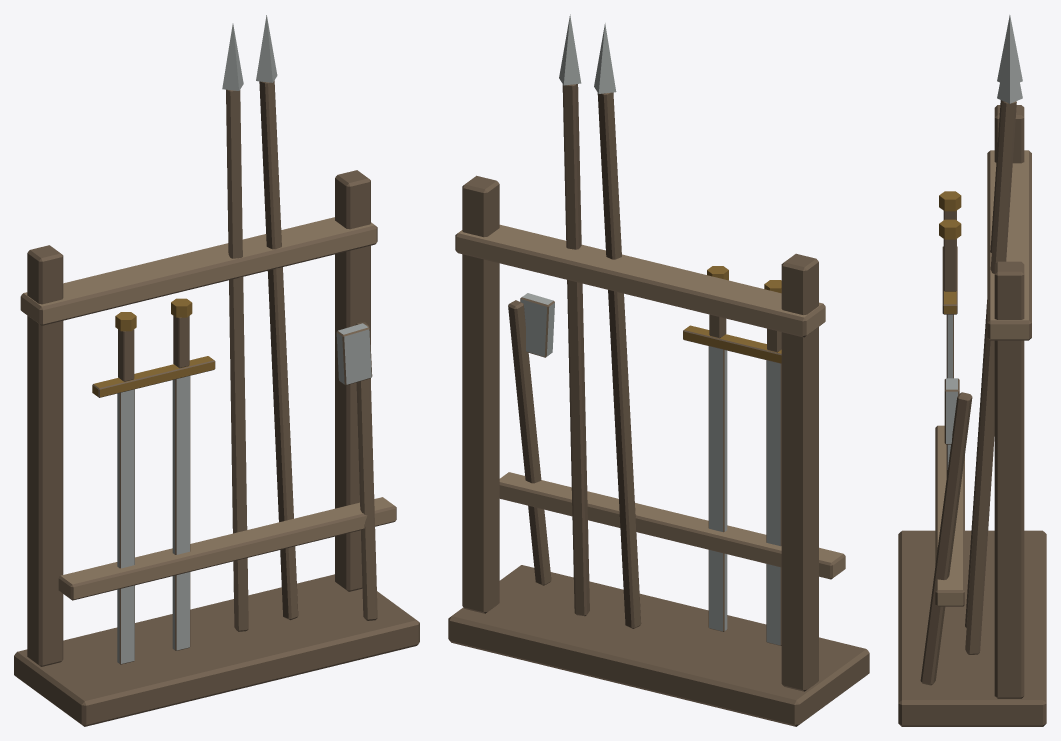
Rendered from weapon_rack.glb.
3 renders of one model, left to right at view 1: azimuth 30°, elevation 25°; view 2: azimuth 150°, elevation 25°; view 3: azimuth 270°, elevation 25°, orthographic. The views are drawn at different scales.
Visible parts, largest first — view 1: Weapon_Rack; view 2: Weapon_Rack; view 3: Weapon_Rack.
Boxes of the visible parts, x1,y1,x2,y2 form: Weapon_Rack: (14, 15, 419, 726); Weapon_Rack: (448, 14, 869, 726); Weapon_Rack: (898, 15, 1046, 726).
Size of the model in its own units: 1.1 by 1.92 by 0.4.
